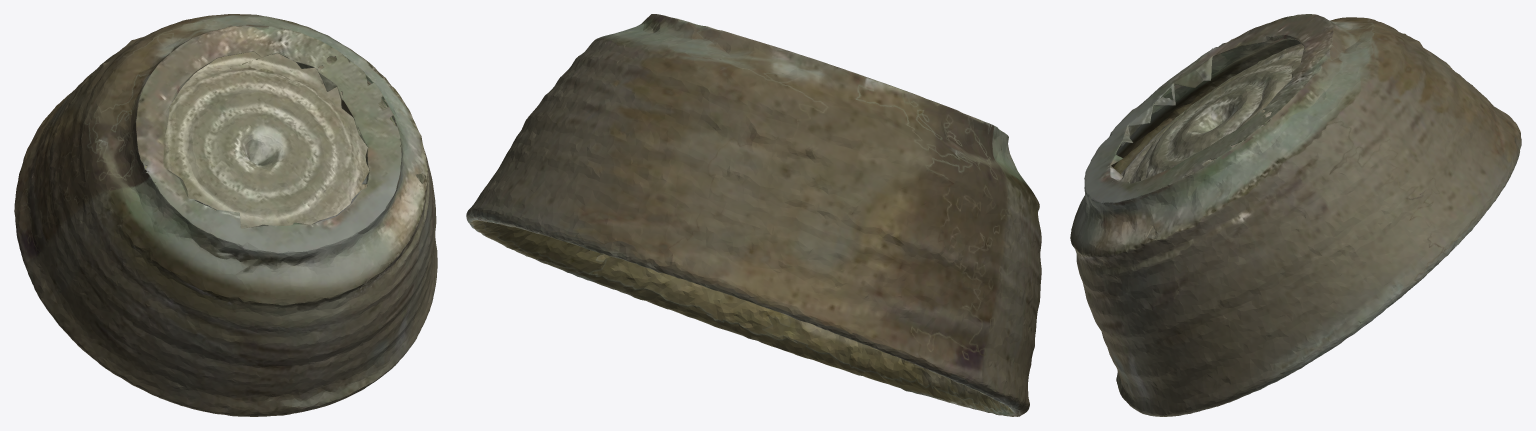
The model's file is 1. ceramic_bowl.glb.
The picture shows the model from 3 angles, left to right: view 1: azimuth 30°, elevation 25°; view 2: azimuth 150°, elevation 25°; view 3: azimuth 270°, elevation 25°; orthographic projection. The views are drawn at different scales.
Visible parts, largest first — view 1: world; view 2: world; view 3: world.
Boxes of the visible parts, x1,y1,x2,y2 form: world: [14, 14, 437, 416]; world: [466, 14, 1041, 416]; world: [1070, 14, 1521, 416].
Size of the model in its own units: 0.32 by 0.2559 by 0.3009.
1 material, 1 textured.
